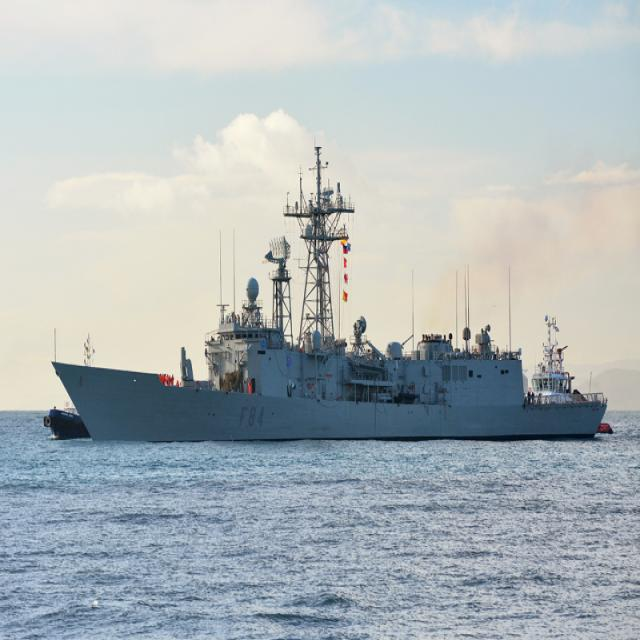Fragata: (50, 133, 609, 446)
